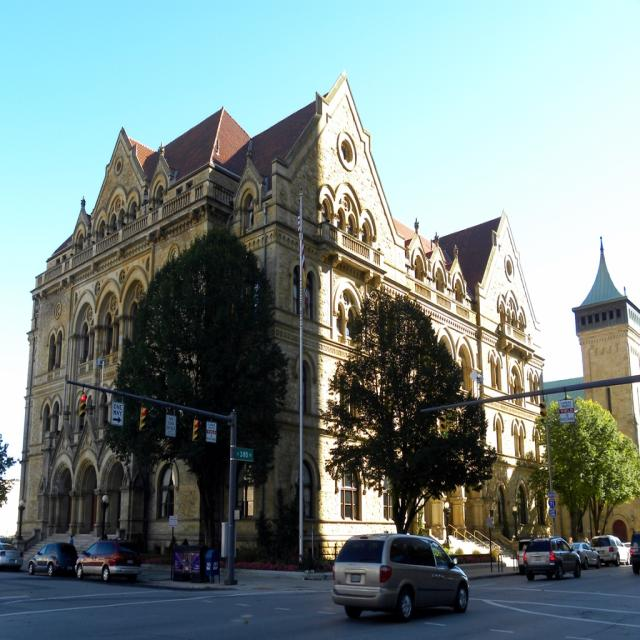car: (333, 525, 468, 621), (76, 535, 140, 581), (521, 532, 581, 578)
